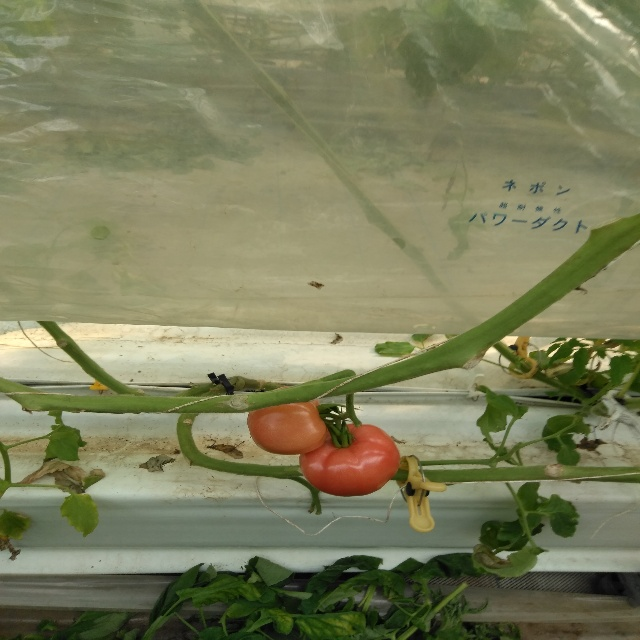b_fully_ripened: (298, 423, 400, 497)
b_half_ripened: (247, 386, 328, 456)
